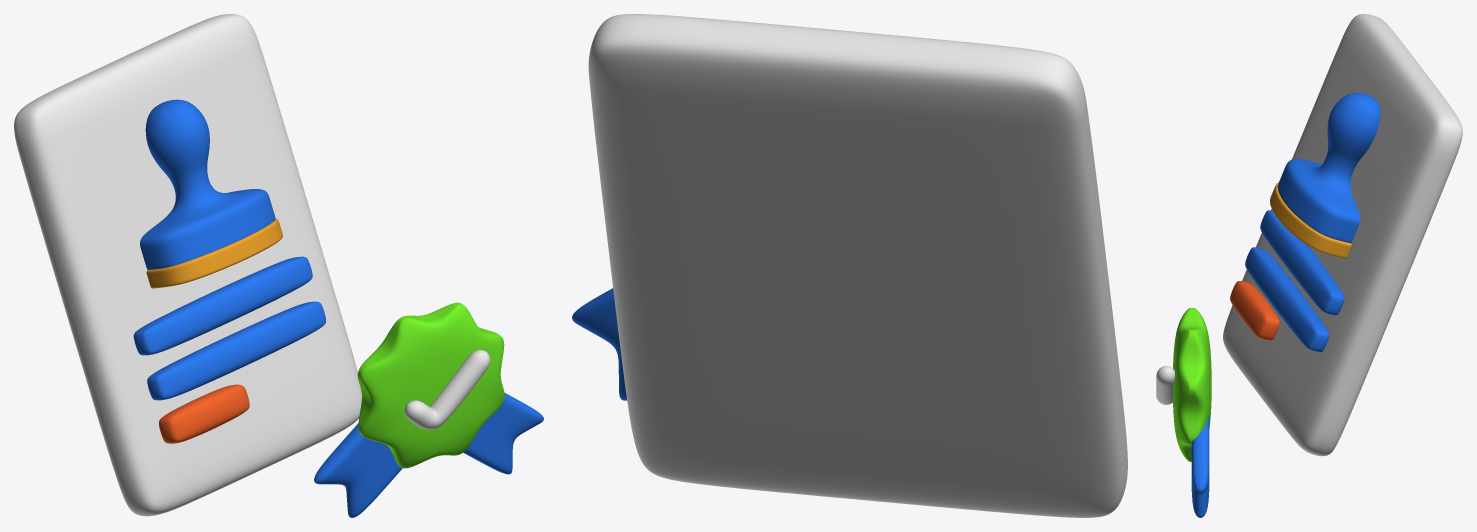
Rendered from permits-and-licenses-3d-animated-icon-890510246129.glb.
The picture shows the model from 3 angles, left to right: view 1: azimuth 30°, elevation 25°; view 2: azimuth 150°, elevation 25°; view 3: azimuth 270°, elevation 25°; orthographic projection. The views are drawn at different scales.
Parts seen in each view (by area): view 1: board, badge, stamp, data 1, data 2, cloth 1, data 3, cloth 2, checklist; view 2: board, cloth 2; view 3: board, stamp, badge, data 2, data 1, data 3, cloth 2, checklist.
Boxes of the visible parts, x1,y1,x2,y2 form: board: (14, 14, 361, 516); badge: (357, 302, 504, 468); stamp: (140, 99, 282, 288); data 1: (133, 256, 312, 355); data 2: (147, 301, 325, 400); cloth 1: (314, 423, 402, 517); data 3: (159, 384, 249, 443); cloth 2: (463, 393, 543, 474); checklist: (404, 350, 490, 429); board: (588, 14, 1127, 517); cloth 2: (572, 288, 626, 400); board: (1223, 14, 1462, 456); stamp: (1270, 92, 1380, 258); badge: (1173, 308, 1211, 461); data 2: (1245, 247, 1329, 352); data 1: (1260, 210, 1344, 315); data 3: (1230, 281, 1279, 340); cloth 2: (1191, 414, 1209, 517); checklist: (1156, 366, 1174, 404).
Size of the model in its own units: 2.97 by 2.63 by 2.09.
